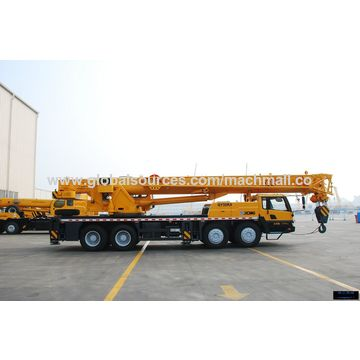crane: (51, 173, 338, 247)
